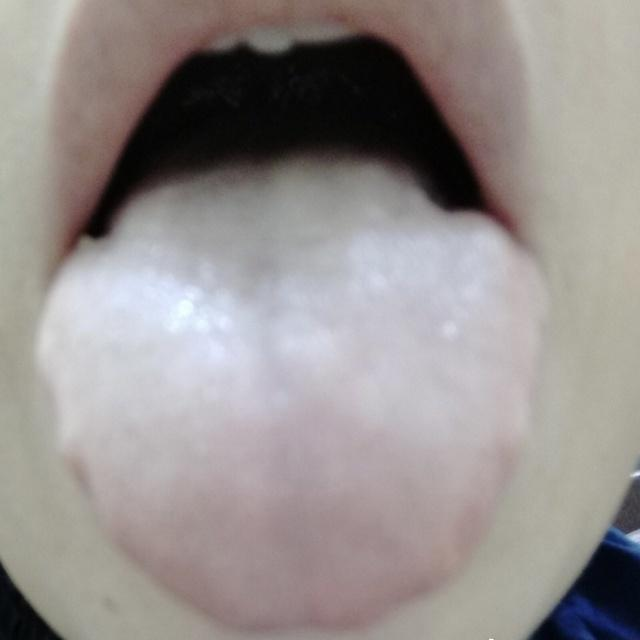baitaishe: (35, 153, 548, 632)
chihenshe: (37, 371, 105, 528)
pangdashe: (34, 152, 547, 631)
